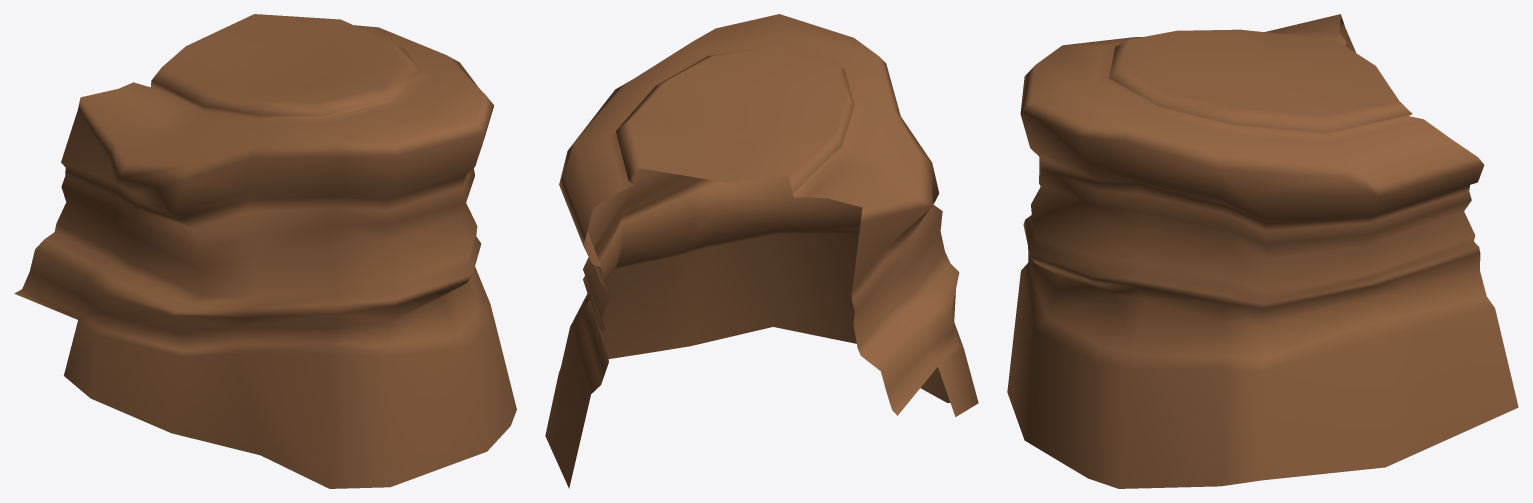
The model's file is Rock Test.fbx.
3 views of the same model, side by side, from view 1: azimuth 30°, elevation 25°; view 2: azimuth 150°, elevation 25°; view 3: azimuth 270°, elevation 25° (orthographic). The views are drawn at different scales.
Parts seen in each view (by area): view 1: RockCollumnR; view 2: RockCollumnR; view 3: RockCollumnR.
Boxes of the visible parts, bbox=[...] form: RockCollumnR: bbox=[14, 14, 516, 488]; RockCollumnR: bbox=[545, 14, 978, 488]; RockCollumnR: bbox=[1007, 14, 1518, 488].
Size of the model in its own units: 129 by 105 by 137.
